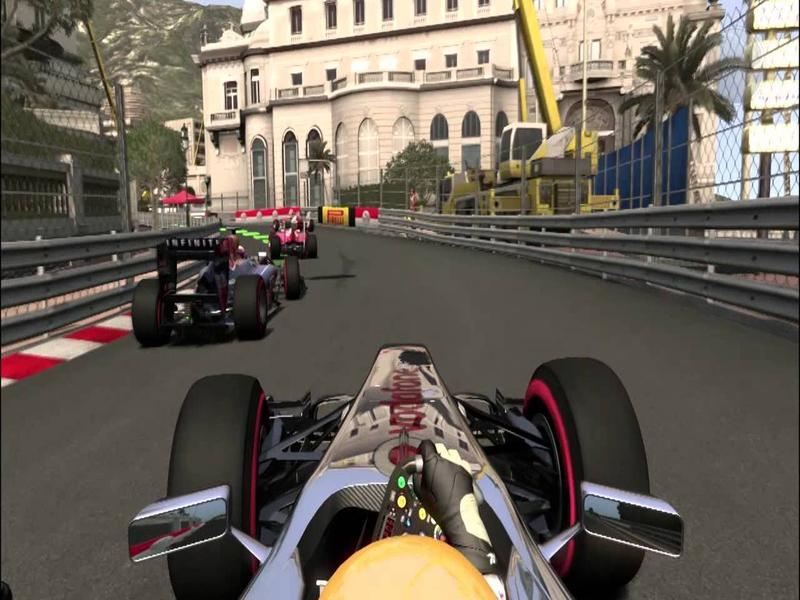f1: (136, 346, 687, 600), (135, 228, 292, 333), (266, 208, 330, 262)
